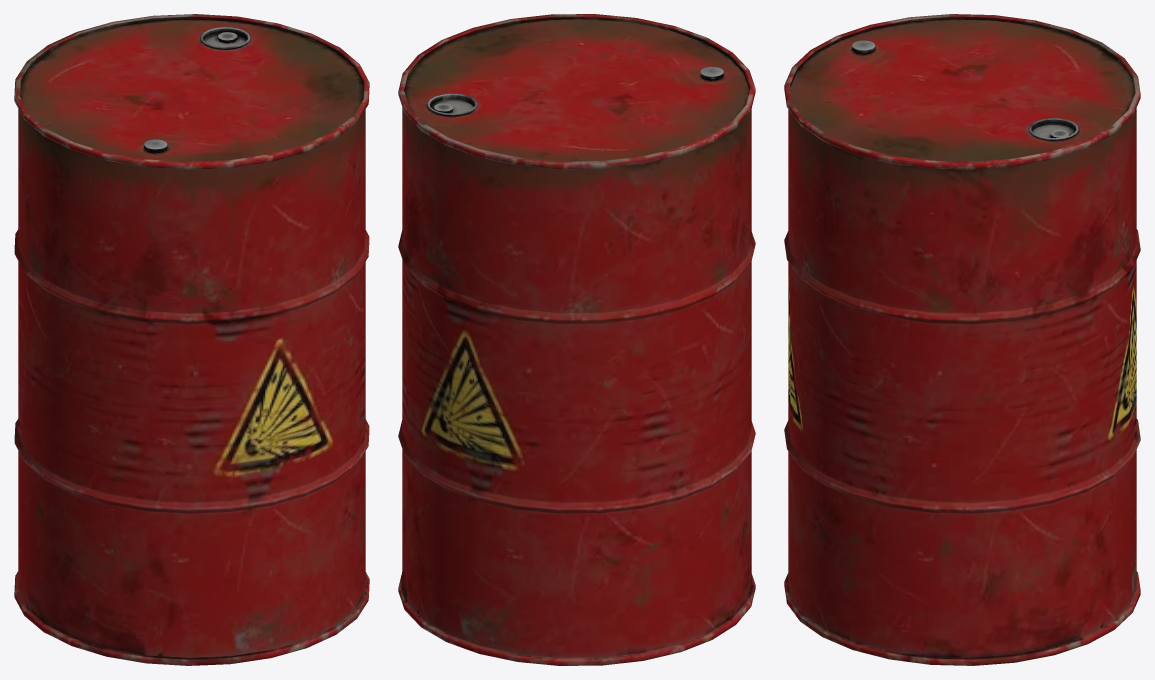
The model's file is Barrel_01.glb.
3 views of the same model, side by side, from view 1: azimuth 30°, elevation 25°; view 2: azimuth 150°, elevation 25°; view 3: azimuth 270°, elevation 25° (orthographic).
Visible parts, largest first — view 1: Barrel_01; view 2: Barrel_01; view 3: Barrel_01.
Boxes of the visible parts, x1,y1,x2,y2 form: Barrel_01: (14,14,369,665); Barrel_01: (398,14,755,665); Barrel_01: (784,14,1140,665).
Size of the model in its own units: 0.5631 by 0.88 by 0.5631.
Materials: 1 (1 with a texture image).
